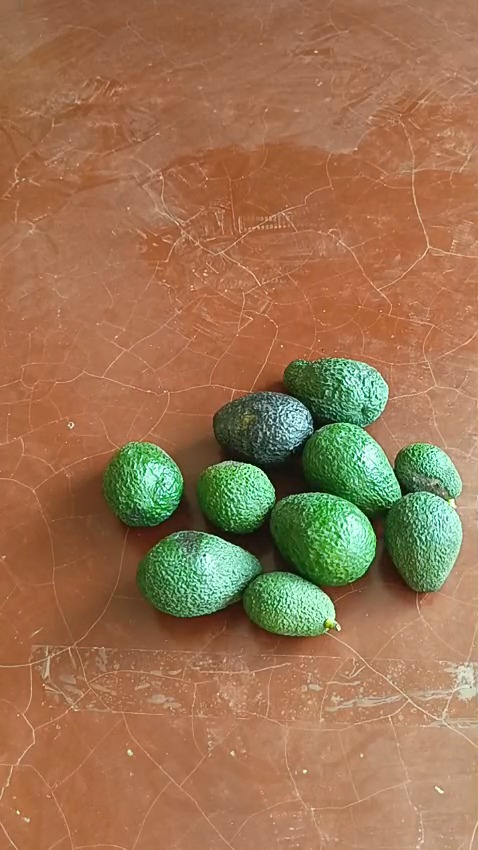Primera: (137, 529, 262, 616), (269, 492, 377, 586), (300, 422, 402, 515), (382, 491, 463, 592), (212, 390, 315, 465), (282, 356, 390, 426)
Segunda: (100, 440, 185, 527), (195, 459, 277, 534)
Tercera: (239, 569, 339, 636), (393, 441, 464, 502)
